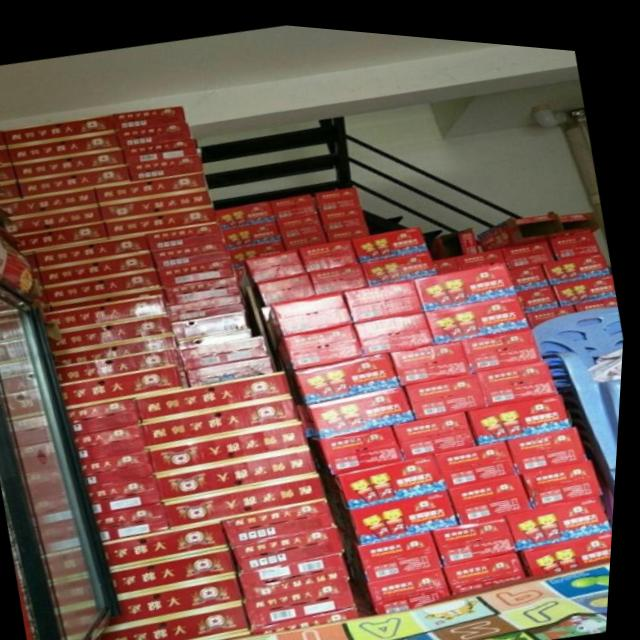box: (160, 440, 322, 497), (144, 388, 306, 445), (152, 415, 314, 471), (171, 467, 330, 524), (137, 364, 295, 419), (111, 567, 249, 626), (325, 444, 453, 503), (338, 483, 465, 536), (114, 542, 242, 594), (110, 516, 235, 568), (108, 597, 256, 640), (302, 378, 419, 432), (62, 360, 190, 407), (510, 484, 617, 540), (250, 570, 364, 622), (292, 346, 404, 398), (426, 284, 534, 336), (244, 544, 354, 595), (226, 492, 340, 541), (470, 383, 578, 434), (238, 519, 352, 567), (414, 253, 520, 303), (52, 310, 176, 352), (357, 558, 457, 607), (352, 523, 448, 574), (59, 345, 184, 383), (45, 265, 166, 304), (270, 284, 355, 339), (313, 417, 408, 466), (49, 291, 171, 329), (437, 505, 523, 558), (40, 248, 159, 286), (57, 331, 179, 367), (526, 519, 618, 566), (0, 130, 123, 165), (438, 430, 524, 480), (37, 231, 150, 269), (0, 112, 116, 149), (395, 402, 483, 450), (8, 146, 126, 181), (453, 465, 539, 513), (526, 448, 610, 497), (19, 162, 133, 198), (105, 201, 222, 236), (279, 317, 366, 364), (478, 349, 563, 397), (96, 167, 208, 203), (391, 332, 478, 378), (463, 316, 546, 364), (509, 417, 593, 464), (100, 186, 216, 220), (409, 364, 490, 411), (356, 303, 437, 349), (451, 540, 532, 585), (347, 271, 426, 316), (49, 282, 167, 312), (478, 202, 562, 242), (259, 599, 368, 629), (100, 497, 175, 539), (180, 331, 271, 365), (0, 186, 98, 217), (6, 204, 104, 235), (92, 472, 167, 512), (351, 218, 431, 255), (189, 351, 281, 383), (16, 222, 111, 252), (88, 446, 160, 485), (79, 419, 150, 458), (364, 243, 440, 279), (69, 395, 143, 431), (159, 251, 239, 283), (247, 243, 310, 282), (146, 219, 227, 249), (153, 235, 230, 266), (167, 271, 243, 302), (175, 305, 250, 335), (544, 242, 612, 275), (254, 268, 320, 302), (171, 288, 248, 317), (116, 117, 195, 145), (232, 235, 287, 275), (128, 149, 203, 178), (300, 230, 359, 266), (555, 262, 619, 295), (310, 255, 371, 289), (125, 134, 199, 162), (114, 101, 186, 129), (179, 322, 256, 347), (225, 214, 284, 245), (219, 195, 279, 224), (432, 218, 482, 251), (549, 220, 603, 249), (504, 231, 557, 258), (510, 252, 552, 282), (320, 198, 368, 224), (278, 206, 326, 232), (272, 187, 318, 213), (530, 294, 579, 318), (459, 238, 510, 261), (316, 179, 361, 205), (186, 624, 259, 640), (520, 276, 562, 303), (562, 199, 600, 225), (326, 215, 371, 235), (284, 225, 329, 244), (576, 285, 621, 300), (0, 179, 21, 202), (438, 248, 460, 264), (0, 166, 17, 182)
